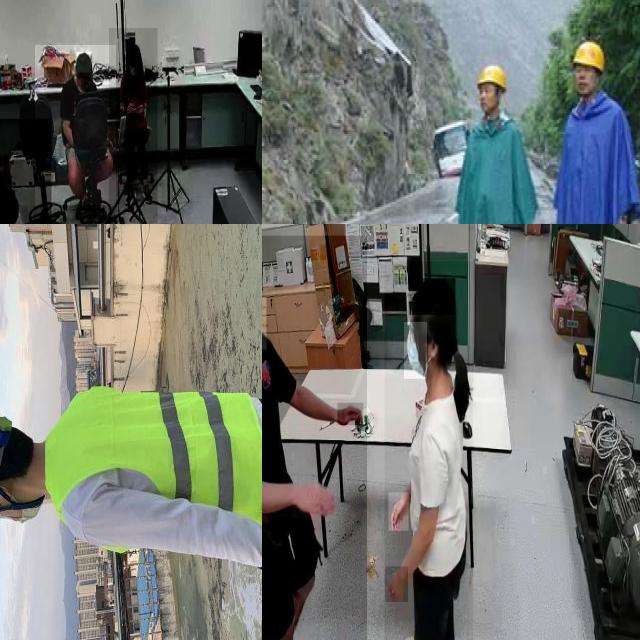No_Ear-Protection: (572, 38, 604, 102), (474, 63, 505, 114)
face_mask: (404, 322, 427, 379), (128, 58, 141, 90)
face_nomask: (77, 76, 89, 92)
hand_noglove: (293, 478, 337, 520), (385, 566, 409, 603), (389, 492, 409, 532), (338, 403, 364, 426), (124, 101, 134, 112), (133, 104, 145, 112)
head_nohelmet: (408, 278, 456, 316), (76, 52, 92, 73), (126, 43, 142, 57)
person: (262, 235, 367, 640), (384, 261, 473, 640), (35, 45, 116, 206), (109, 27, 158, 224)
shoes: (139, 180, 153, 207)
vest: (39, 377, 262, 548)
